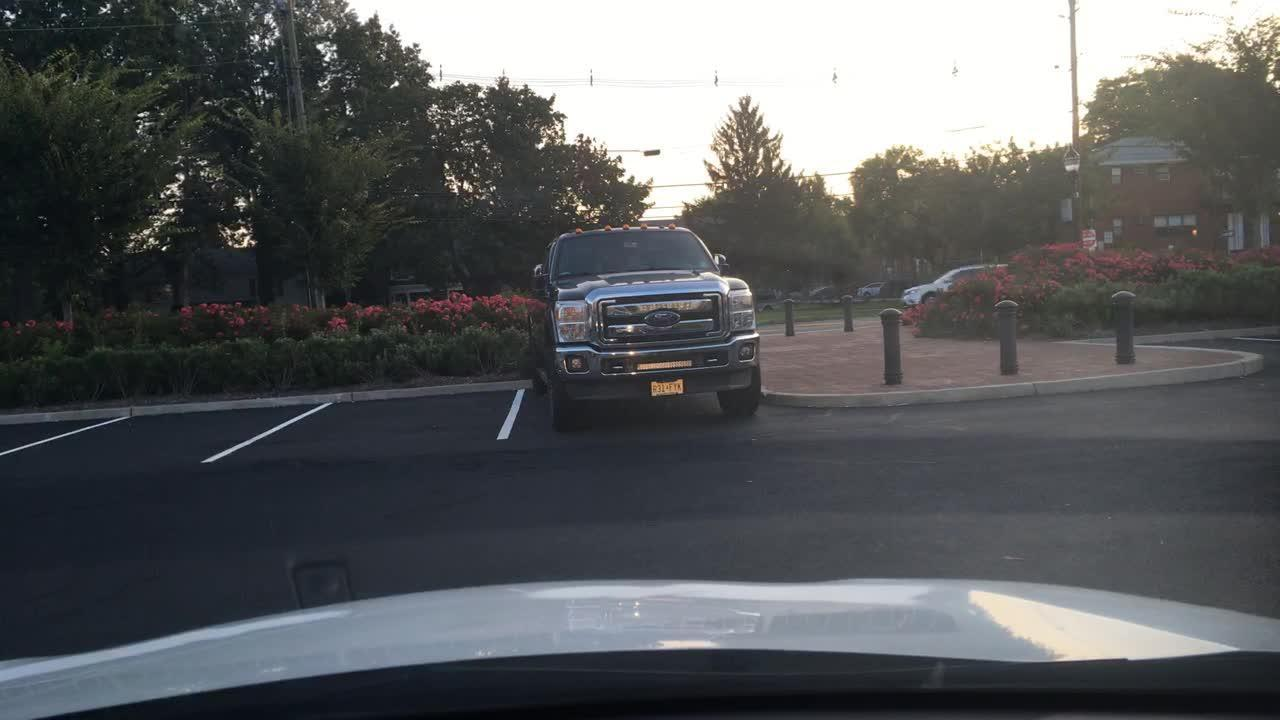ford: (637, 305, 693, 334)
